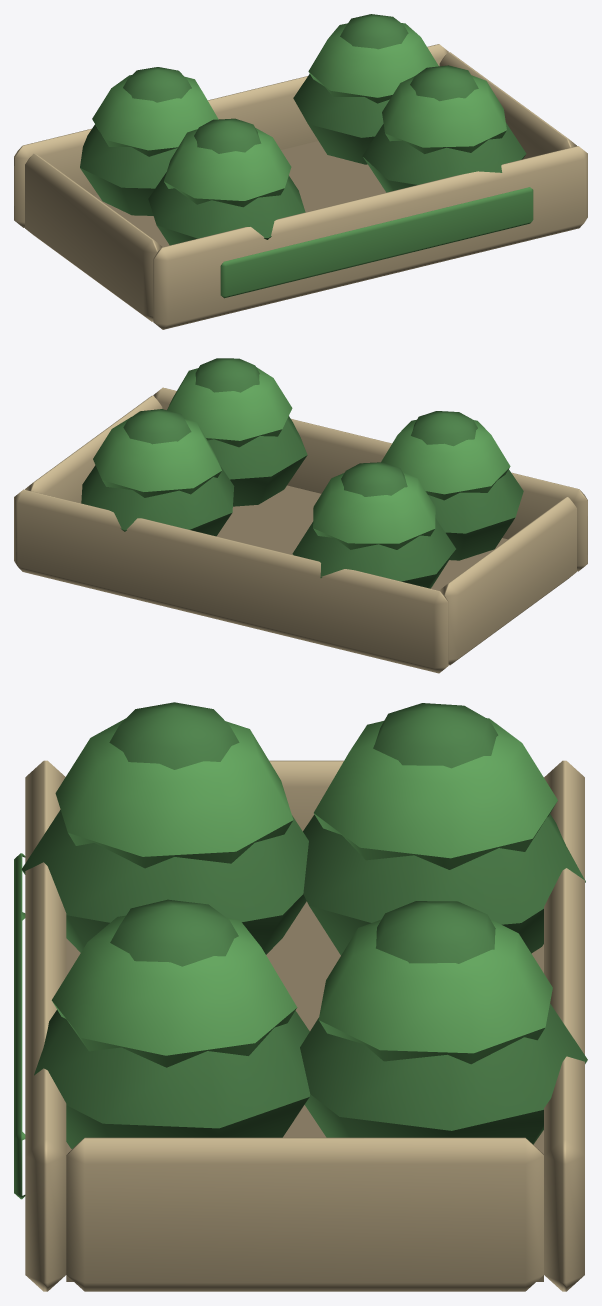
Rendered from ProduceTray_Lettuce_01.glb.
3 views of the same model, one above another, from view 1: azimuth 30°, elevation 25°; view 2: azimuth 150°, elevation 25°; view 3: azimuth 270°, elevation 25° (orthographic). The views are drawn at different scales.
Parts seen in each view (by area): view 1: SM_ProduceTray_Lettuce_01; view 2: SM_ProduceTray_Lettuce_01; view 3: SM_ProduceTray_Lettuce_01.
Boxes of the visible parts, x1=… form: SM_ProduceTray_Lettuce_01: x1=14, y1=14, x2=587, y2=329; SM_ProduceTray_Lettuce_01: x1=14, y1=358, x2=587, y2=673; SM_ProduceTray_Lettuce_01: x1=14, y1=702, x2=587, y2=1291.
Bounding box in the file's own units: 0.5 × 0.1742 × 0.3076.
1 material, 1 textured.
